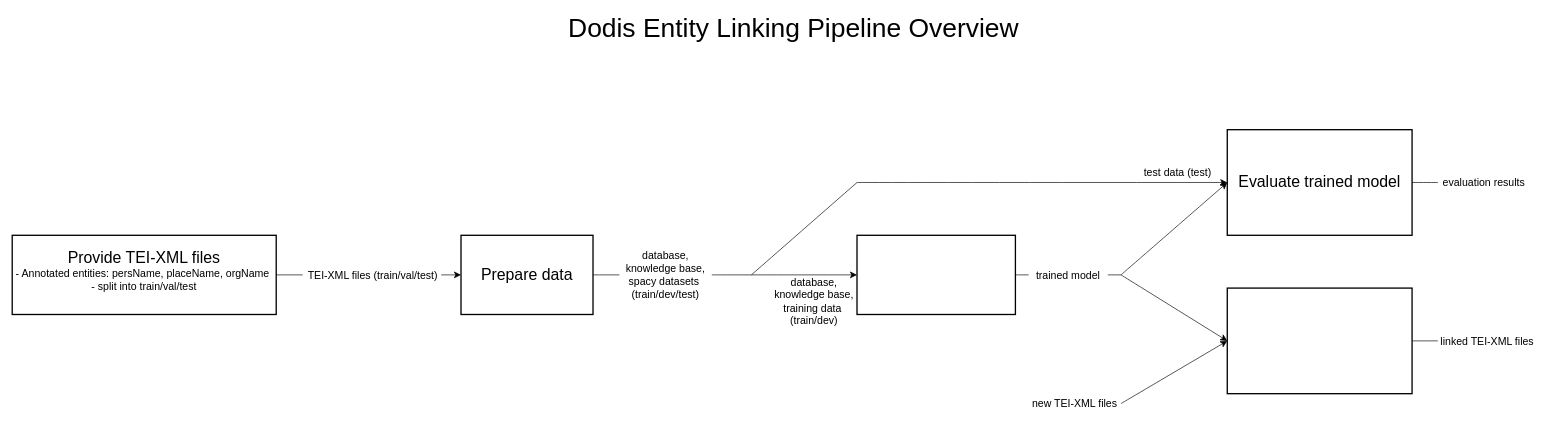
Some shapes in this 1548 by 424 pixel diagram are drawn without their labels. The centre of each missing label's shape, as x and y in pixels:
"Apply trained model" goes at pixel 1319 340.
"Train entity linking model" goes at pixel 936 274.
